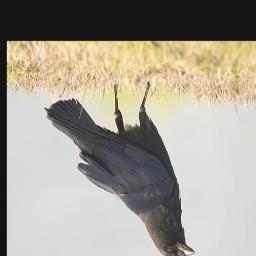Crow: (45, 80, 197, 256)
